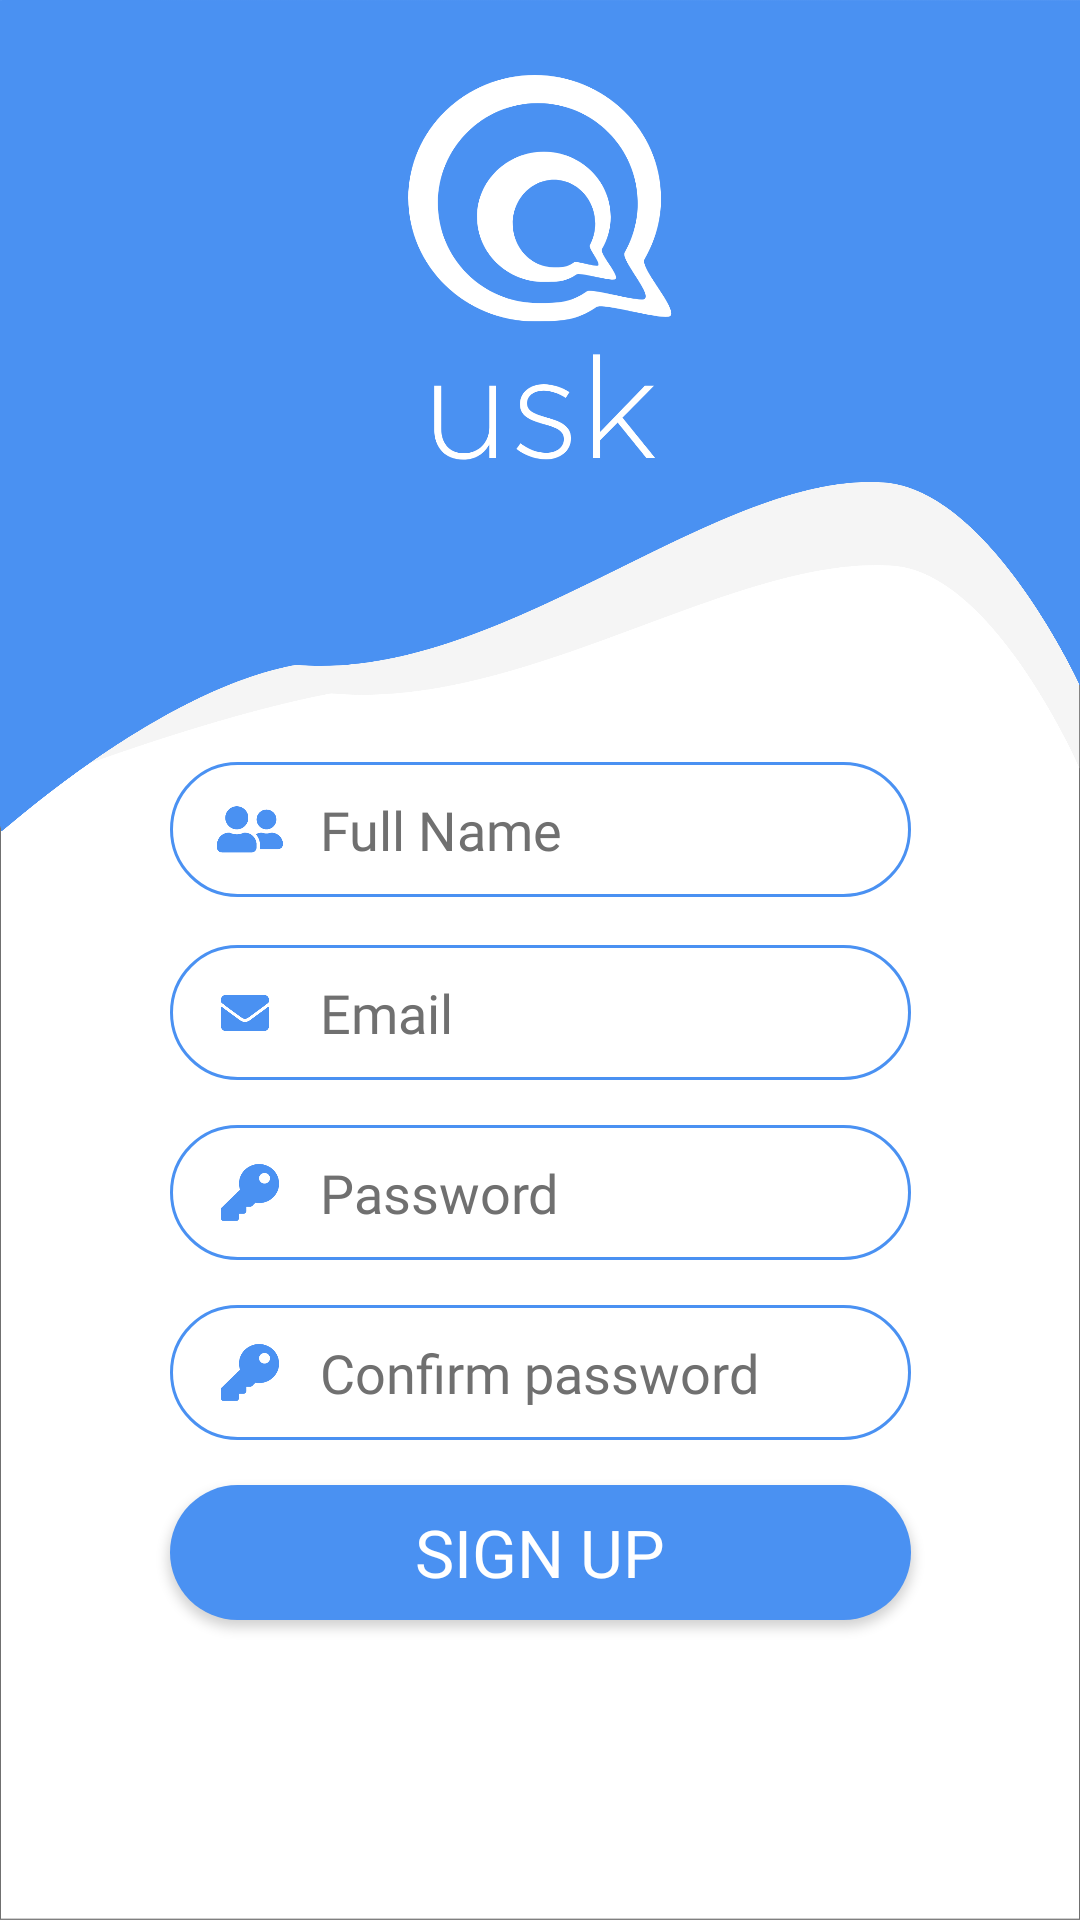

Where to tap for icons on this 1080*1920 app screen, as (x=x, y=y):
key: (x=250, y=1192), (x=250, y=1372)
